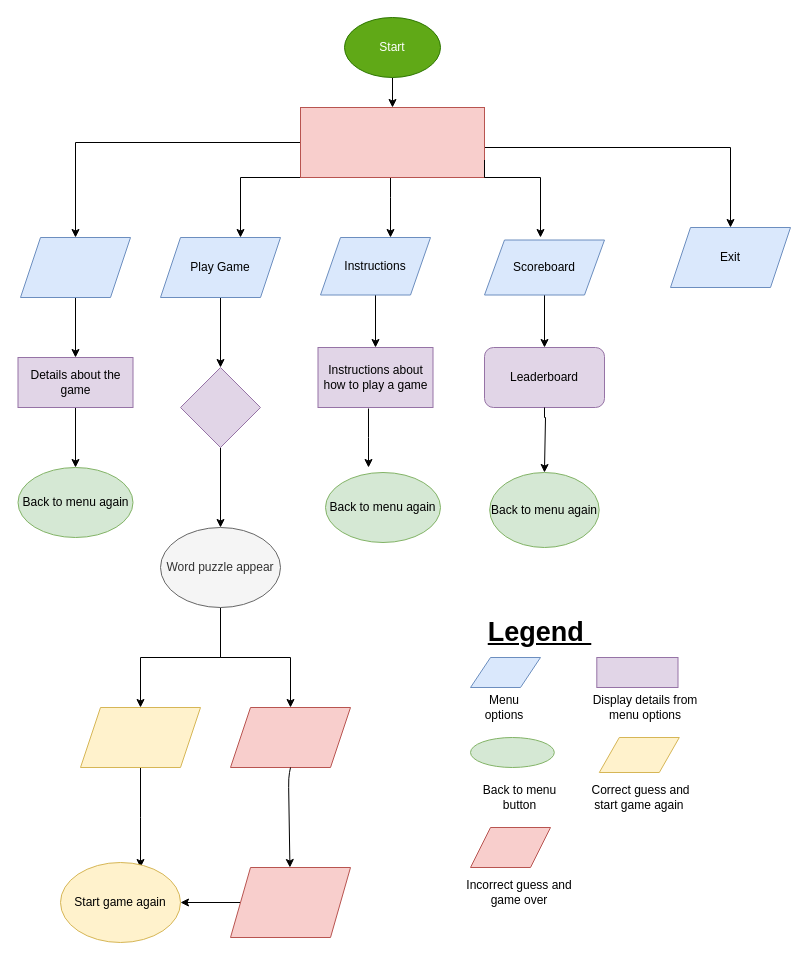
Image size: 808x960. Some labels were removed from this diagram. Each missing label, with the box of its shape:
About: (20, 236, 130, 298)
Correct guess: (80, 706, 200, 768)
Game over: (230, 866, 350, 938)
Incorrect guess x 7 times: (230, 706, 350, 768)
Menu: (300, 106, 484, 178)
Spin the wheel: (180, 366, 260, 448)
